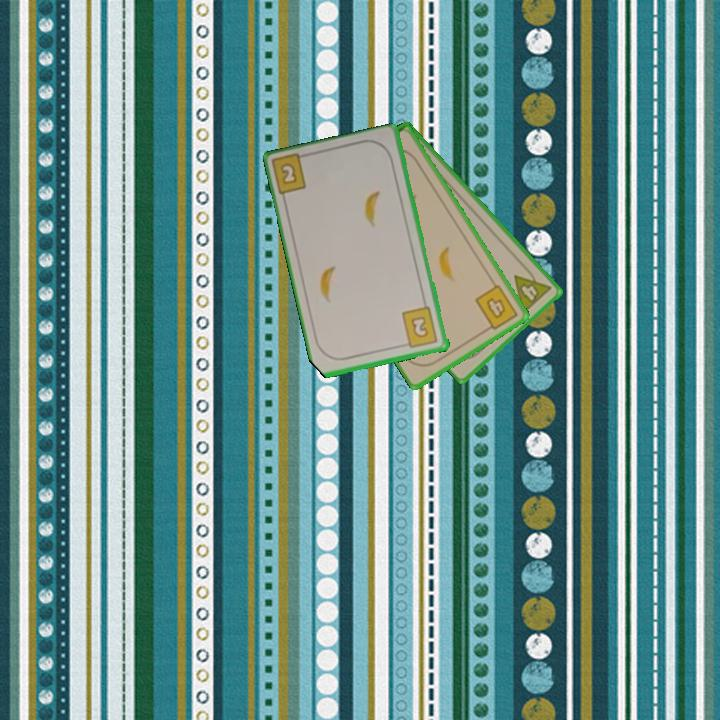2b: (270, 150, 313, 199), (399, 304, 441, 351)
4b: (471, 281, 521, 335)
4p: (510, 262, 554, 317)
